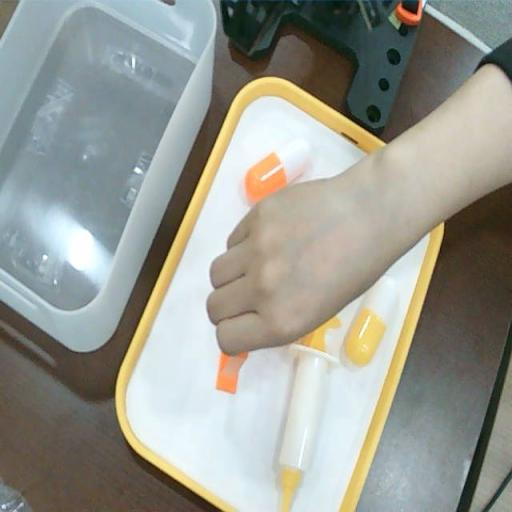hospital: (204, 175, 392, 355)
